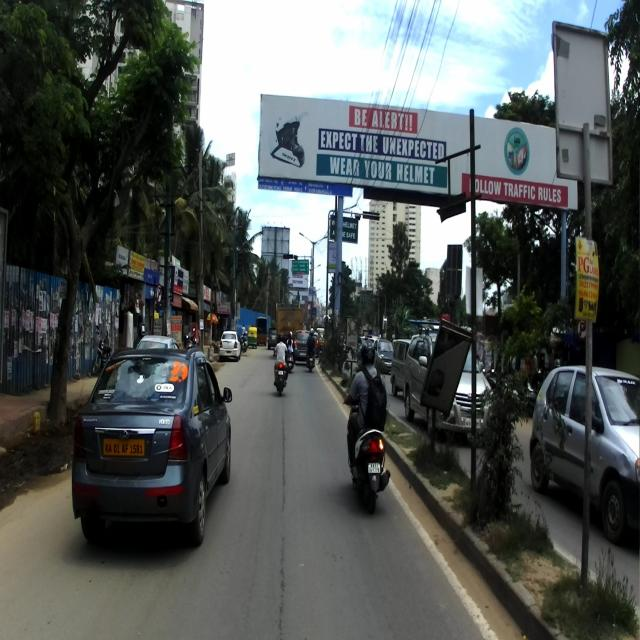Car_Mahindra: (70, 345, 232, 546)
Car_TATA: (528, 364, 640, 548)
Car_Toyota: (402, 316, 492, 442)
scooter: (340, 376, 390, 515)
